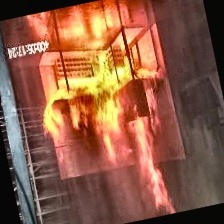fire: (30, 29, 204, 224)
